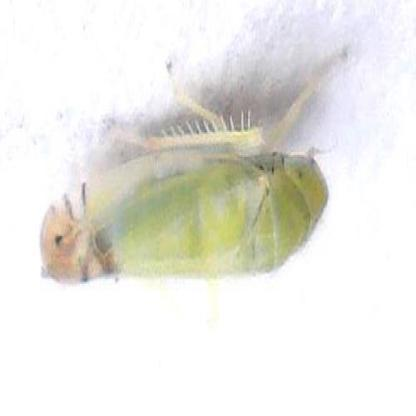green-leafhopper: (41, 136, 329, 294)
